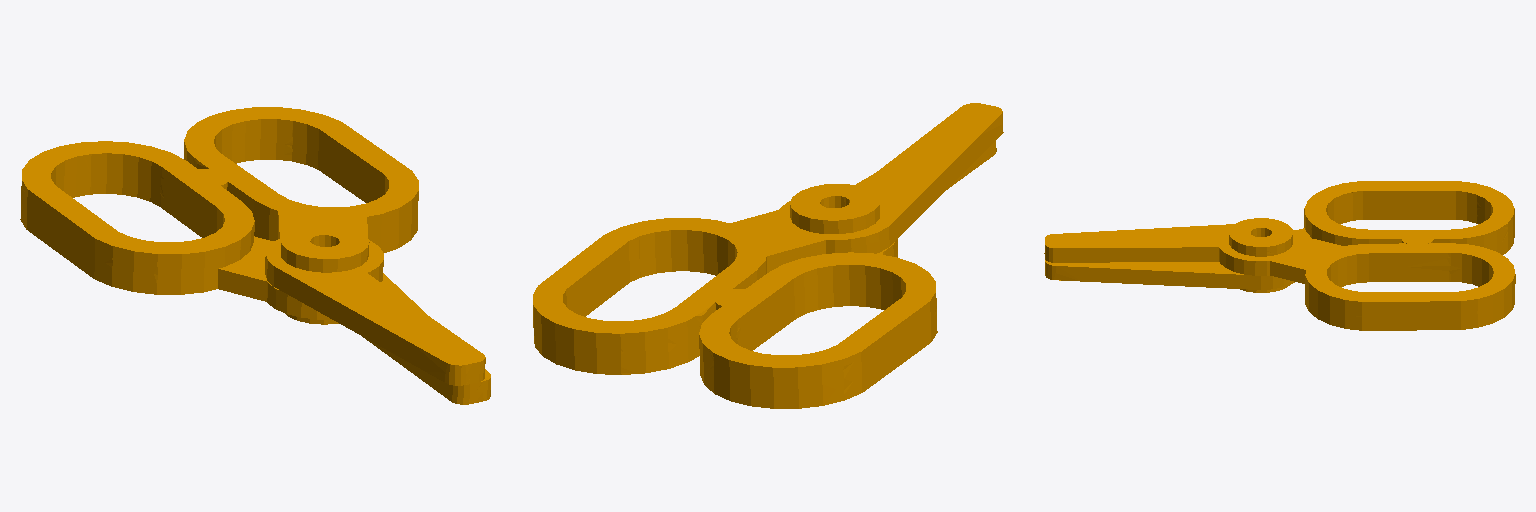
URDF robot description (object):
<?xml version="1.0"?>
<robot name="object">
  <link name="object">
    <visual>
      <origin xyz="0.0 0.0 0.0"/>
      <geometry>
        <mesh filename="scissors.stl" scale="1.00 1.00 1.00"/>
      </geometry>
    </visual>
    <collision>
      <origin xyz="0.0 0.0 0.0"/>
      <geometry>
        <mesh filename="scissors.stl" scale="1.00 1.00 1.00"/>
      </geometry>
    </collision>
  </link>
</robot>
    
                    

--- Facts derived from the render (not from the file) ---
The picture shows the robot from 3 angles, left to right: view 1: azimuth 30°, elevation 25°; view 2: azimuth 150°, elevation 25°; view 3: azimuth 270°, elevation 25°; orthographic projection.
Robot: object — 1 links, 0 joints (none); root link object; default pose: every joint at zero.
Links seen in each view (by area): view 1: object; view 2: object; view 3: object.
Boxes of the visible links, left/top/right/bottom form: object: left=20, top=107, right=490, bottom=404; object: left=533, top=103, right=1003, bottom=408; object: left=1044, top=181, right=1515, bottom=330.
Bounding box of the posed robot: 0.0741 × 0.13 × 0.0147 m (x, y, z).
Meshes: 1 distinct files referenced, 1 mesh visuals loaded (1 binary STL).
